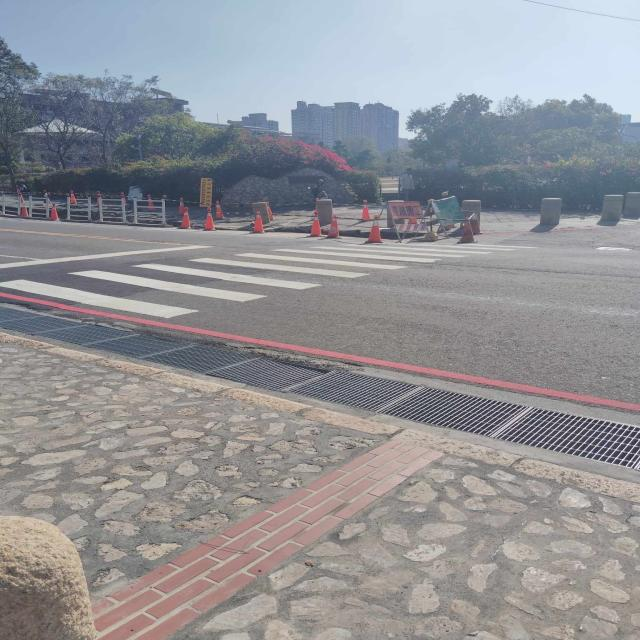zebra crossing: (8, 240, 539, 319)
